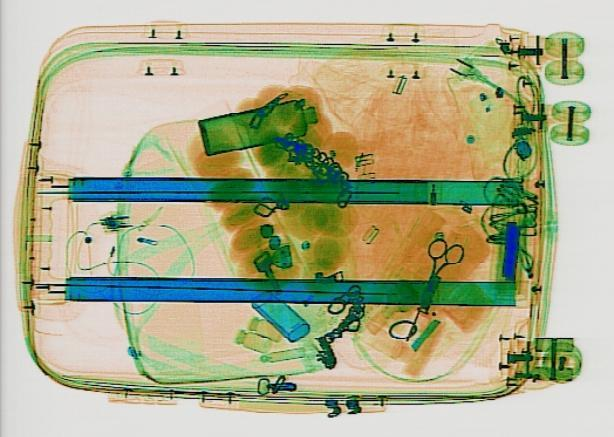Scissors: (400, 235, 469, 311)
